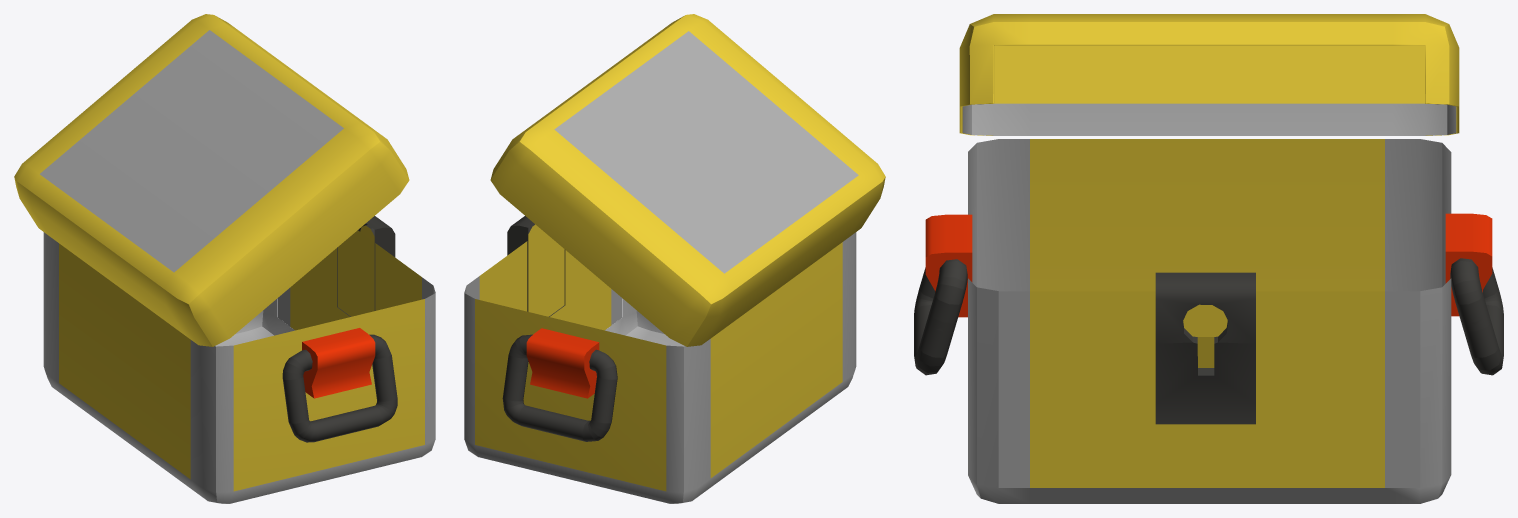
3 renders of one model, left to right at view 1: azimuth 30°, elevation 25°; view 2: azimuth 150°, elevation 25°; view 3: azimuth 270°, elevation 25°, orthographic. The views are drawn at different scales.
Parts seen in each view (by area): view 1: polySurface200, polySurface199; view 2: polySurface200, polySurface199; view 3: polySurface199, polySurface200.
Part boxes in pixels (<box>): polySurface200: <box>14,14,409,346</box>; polySurface199: <box>43,216,435,503</box>; polySurface200: <box>490,14,885,346</box>; polySurface199: <box>464,216,856,503</box>; polySurface199: <box>914,139,1503,503</box>; polySurface200: <box>959,14,1459,135</box>.
Size of the model in its own units: 154 by 178 by 210.
